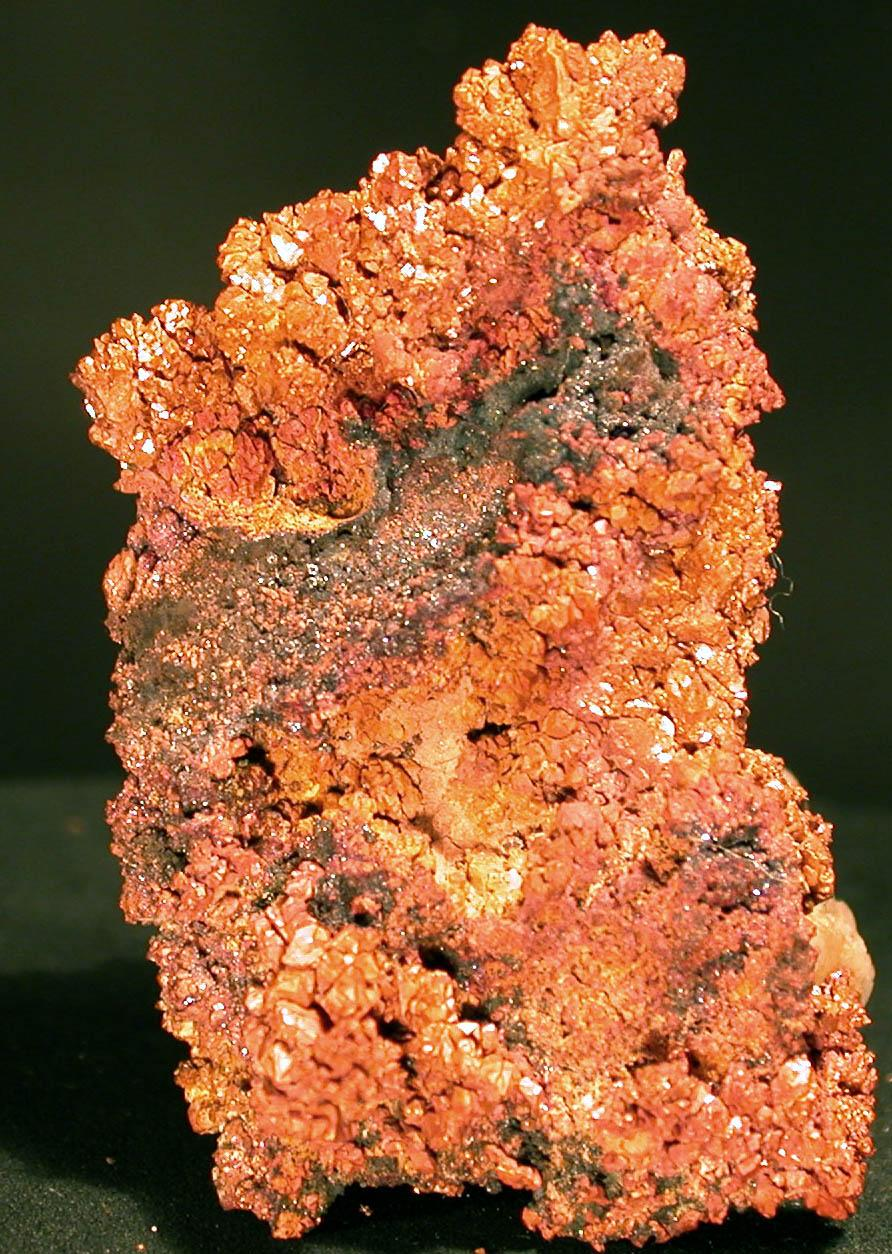copper: (74, 27, 876, 1244)
